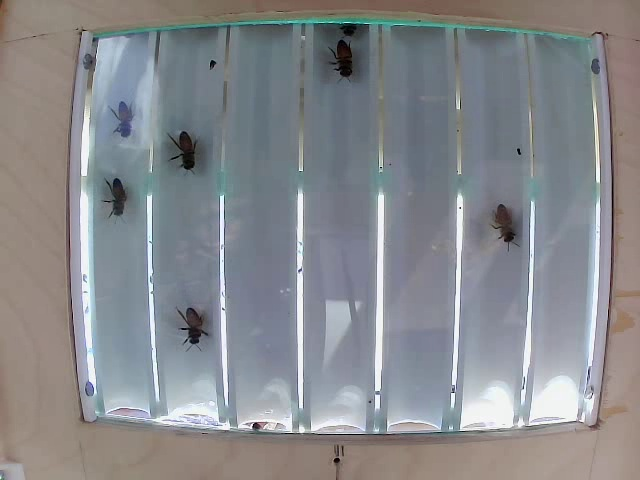bee: (104, 101, 142, 144), (100, 170, 139, 211), (174, 306, 207, 352), (331, 29, 356, 77), (174, 128, 204, 167), (495, 195, 515, 241)
